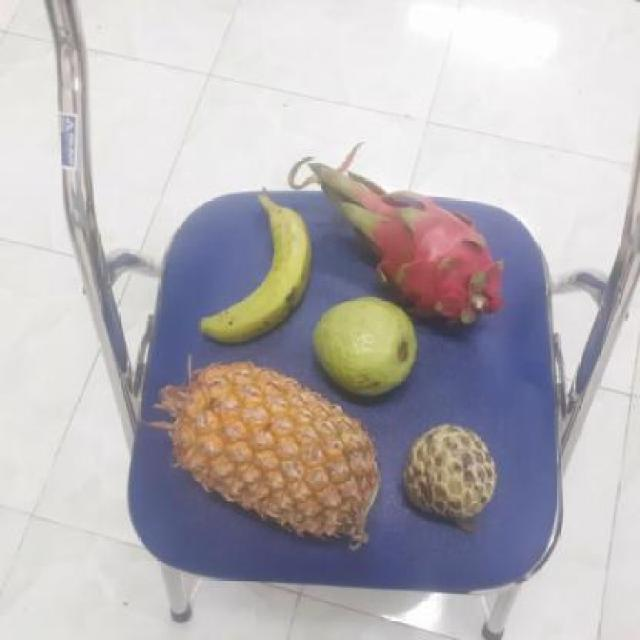banana: (195, 198, 312, 345)
dragon fruit: (354, 192, 497, 323)
guava: (309, 295, 420, 396)
pineapple: (159, 360, 376, 545)
sugar apple: (397, 426, 497, 525)
